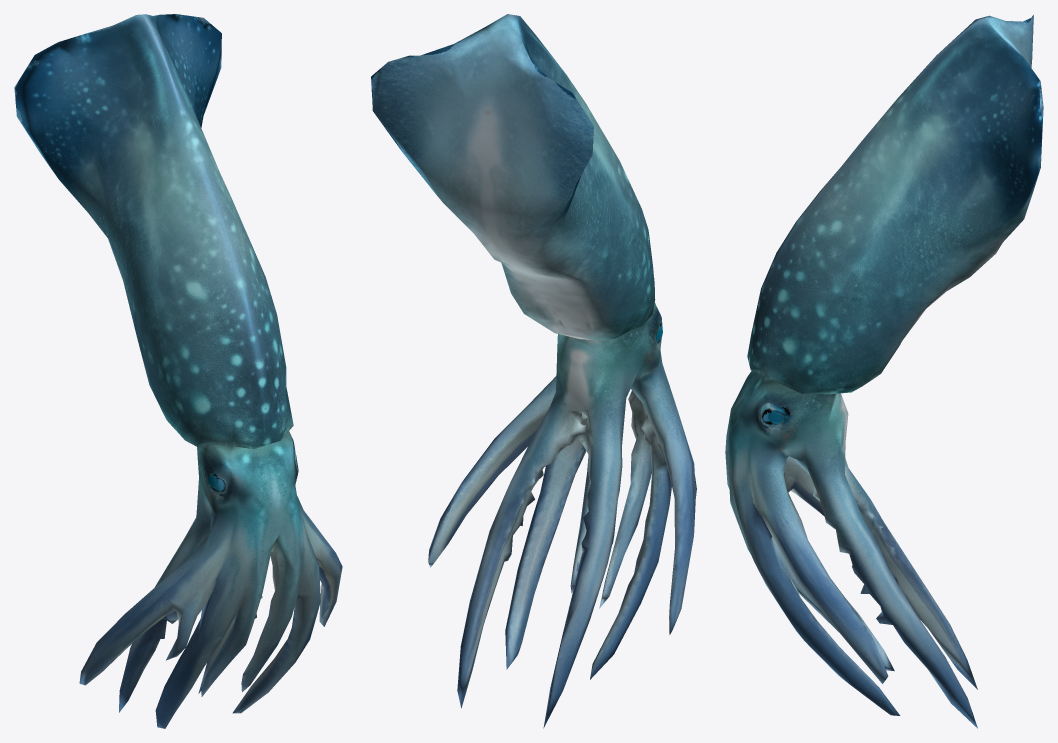
Rendered from glow_squid_single_1500.glb.
3 views of the same model, side by side, from view 1: azimuth 30°, elevation 25°; view 2: azimuth 150°, elevation 25°; view 3: azimuth 270°, elevation 25° (orthographic). The views are drawn at different scales.
Bounding box in the file's own units: 0.3496 × 0.9494 × 0.399.
Materials: 1 (1 with a texture image).
